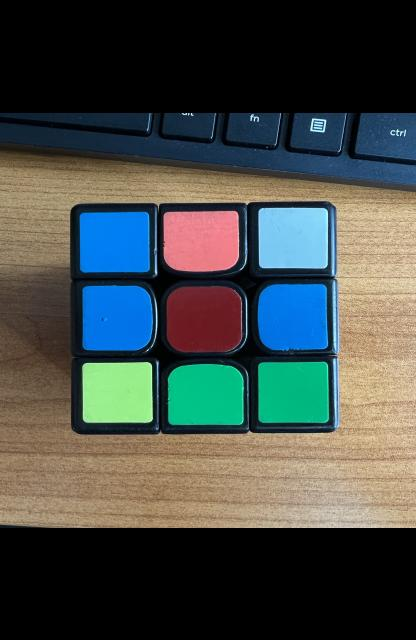Blue: (258, 283, 328, 349), (82, 284, 153, 349), (79, 211, 149, 271)
Green: (168, 363, 244, 424), (258, 360, 329, 422)
Orange: (163, 210, 239, 270)
Red: (167, 285, 242, 351)
White: (258, 206, 328, 268)
Yellow: (82, 361, 153, 422)
